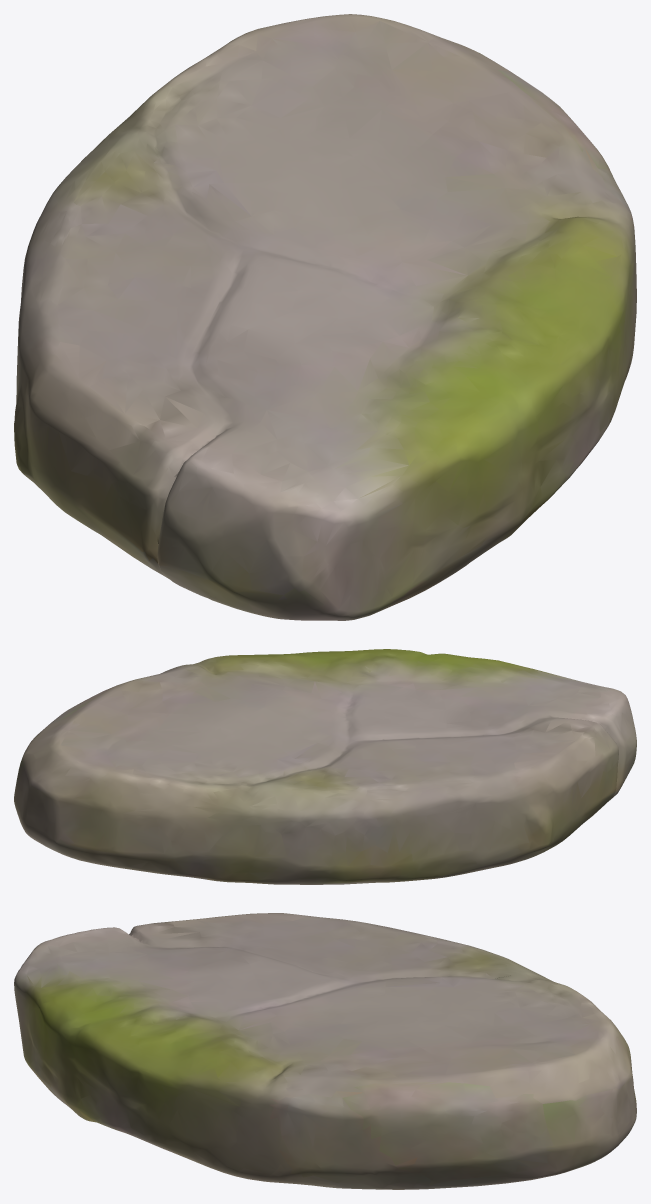
The model's file is laja_piedra.glb.
3 views of the same model, one above another, from view 1: azimuth 30°, elevation 25°; view 2: azimuth 150°, elevation 25°; view 3: azimuth 270°, elevation 25° (orthographic). The views are drawn at different scales.
Parts seen in each view (by area): view 1: laja_piedra_malla; view 2: laja_piedra_malla; view 3: laja_piedra_malla.
Part boxes in pixels (x1=…): laja_piedra_malla: x1=14, y1=14, x2=636, y2=620; laja_piedra_malla: x1=14, y1=649, x2=636, y2=884; laja_piedra_malla: x1=14, y1=913, x2=636, y2=1189.
Bounding box in the file's own units: 0.1437 × 0.0448 × 0.1696.
Materials: 1 (1 with a texture image).
